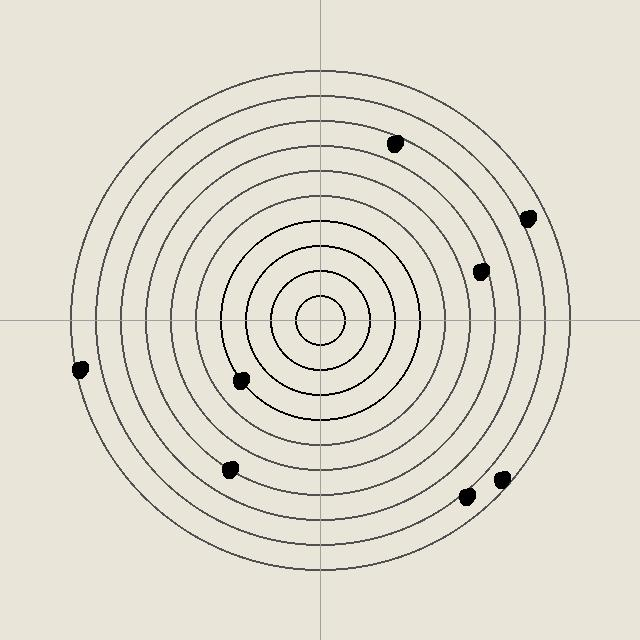random_scatter: (384, 133, 404, 153), (517, 208, 537, 228), (470, 261, 490, 281), (69, 359, 89, 379), (219, 459, 239, 479), (456, 486, 476, 506), (230, 370, 250, 390), (491, 469, 511, 489)
